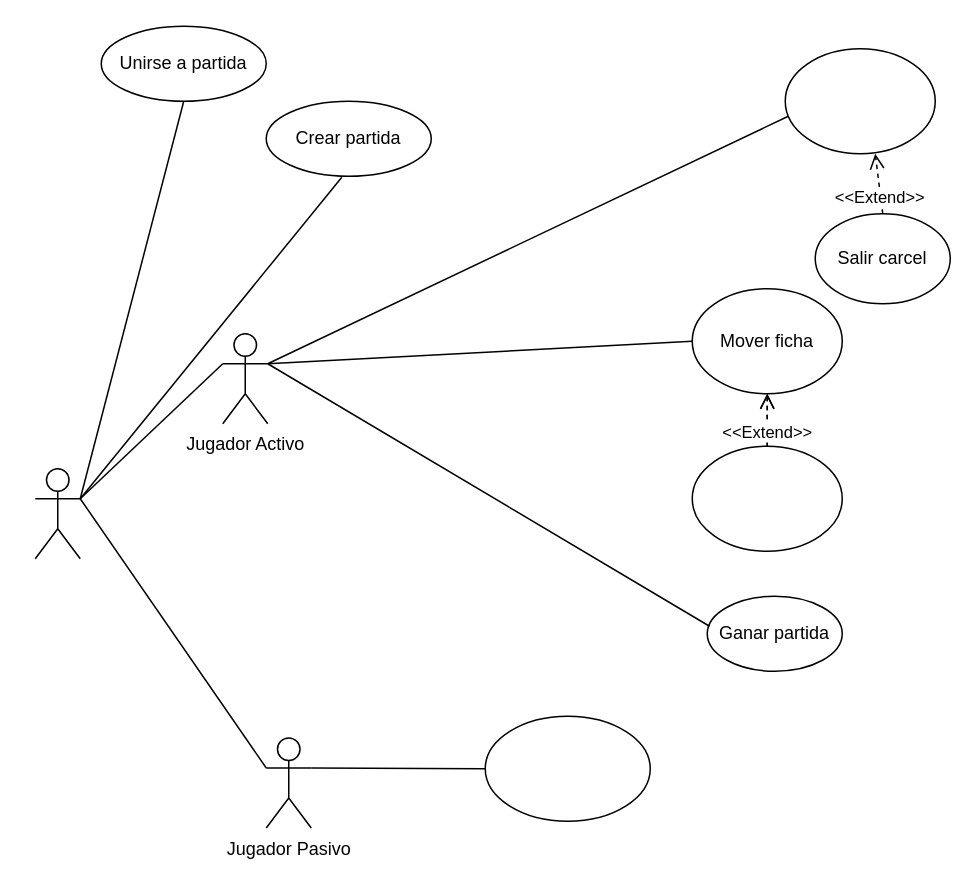
Image size: 977x885. Some labels were removed from this diagram. The shapes that lost their labels are listed below. From the top down, each one's centre as x and y in pixels, then its label:
At point (859, 100): "Tirar Dados".
At point (57, 513): "Jugador".
At point (766, 498): "Comer ficha".
At point (567, 768): "Soplar ficha".
